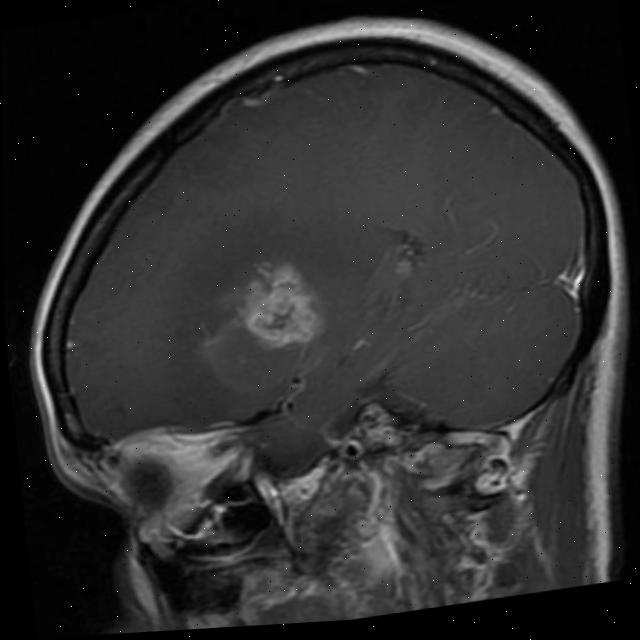Glioma: (232, 251, 323, 353)
